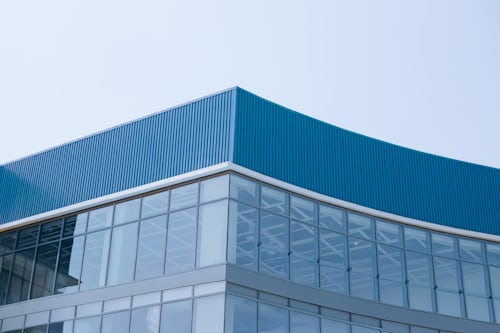glass_panel: (30, 228, 60, 299), (165, 208, 197, 274), (228, 201, 258, 270), (135, 215, 166, 279), (197, 200, 227, 266), (259, 211, 288, 278), (107, 222, 137, 284), (290, 221, 318, 285), (80, 230, 109, 289), (320, 229, 347, 292), (349, 237, 376, 298), (55, 236, 83, 292), (6, 248, 34, 303), (193, 294, 224, 332), (225, 295, 256, 332), (160, 300, 191, 332), (349, 237, 375, 275), (406, 251, 432, 286), (378, 245, 403, 280), (258, 303, 288, 332), (230, 174, 258, 205), (462, 262, 487, 296), (434, 257, 459, 291), (290, 195, 317, 224), (261, 185, 288, 214), (170, 183, 198, 210), (200, 175, 228, 202), (141, 191, 169, 218), (130, 306, 159, 332), (319, 205, 345, 232), (113, 198, 140, 224), (350, 271, 375, 299), (376, 220, 402, 246), (408, 284, 433, 311), (436, 289, 461, 316), (0, 253, 13, 304), (379, 279, 404, 305), (348, 212, 373, 238), (87, 206, 113, 231), (404, 227, 429, 252), (465, 295, 490, 320), (290, 311, 319, 332), (459, 239, 485, 262), (101, 311, 129, 332), (63, 213, 87, 236), (39, 220, 61, 243), (16, 225, 38, 248), (162, 286, 192, 301), (73, 316, 100, 332), (132, 292, 160, 306), (25, 311, 49, 327), (0, 231, 16, 254), (104, 297, 130, 311), (321, 319, 349, 332), (50, 306, 74, 321), (76, 302, 101, 316), (486, 243, 500, 267), (489, 266, 499, 298), (48, 320, 72, 332), (352, 325, 379, 332), (493, 299, 500, 323), (23, 325, 46, 332)
